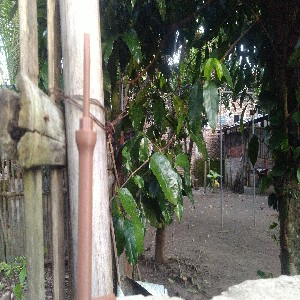obeng: (72, 33, 98, 300)
